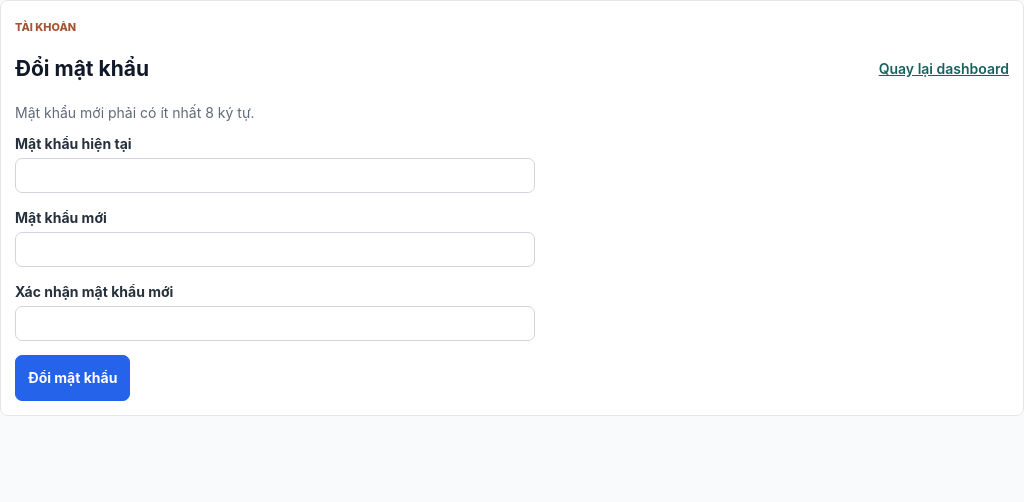
Test: ChangePasswordPage › submits current and new password to backend API
The image size is (1024, 502).
Step 1. Type "old-password" into the password field labelled "Mật khẩu hiện tại" → (275, 175), box x1=15 y1=158 x2=535 y2=193
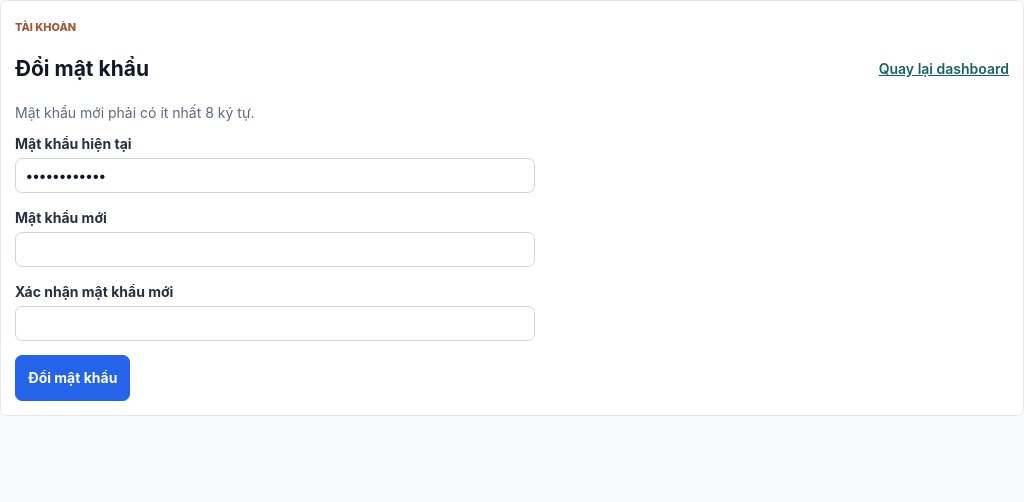
Step 2. Type "new-password-1" into the password field labelled "Mật khẩu mới" → (275, 249), box x1=15 y1=232 x2=535 y2=267
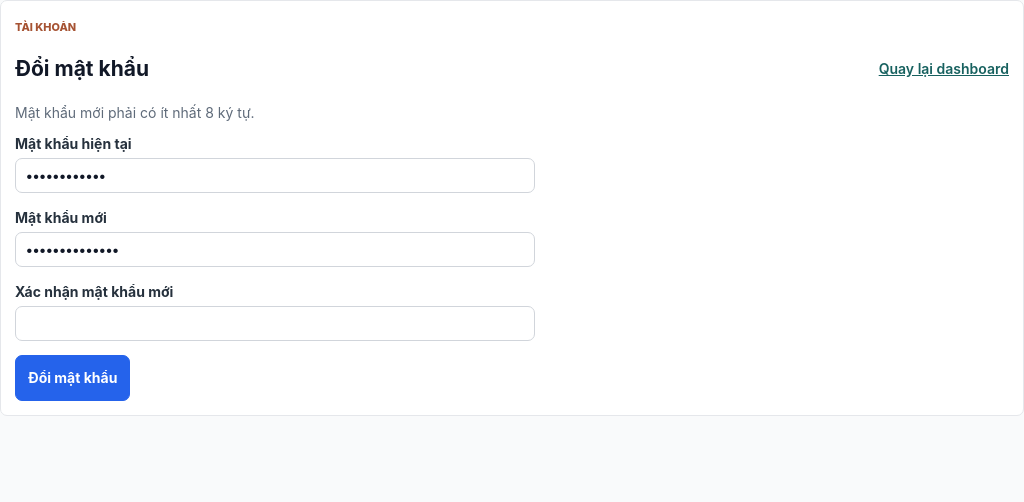
Step 3. Type "new-password-1" into the password field labelled "Xác nhận mật khẩu mới" → (275, 323), box x1=15 y1=306 x2=535 y2=341
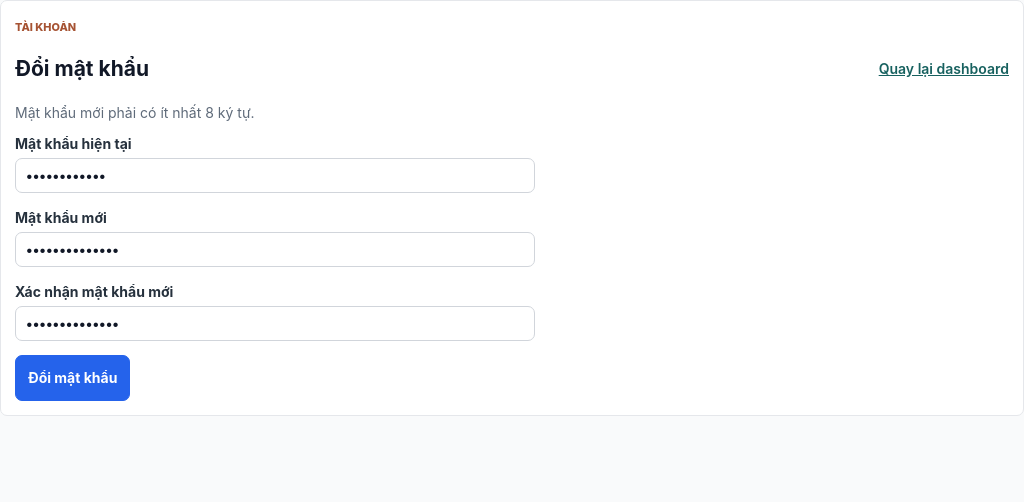
Step 4. Click the button "Đổi mật khẩu" → (73, 378), box x1=15 y1=355 x2=130 y2=401
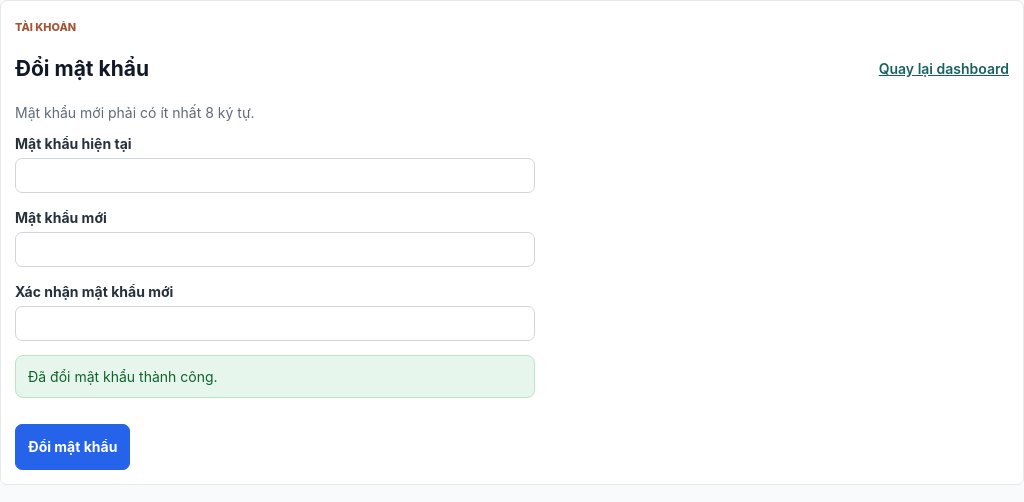
Check: the text "Đã đổi mật khẩu thành công." is shown, box x1=15 y1=355 x2=535 y2=398
